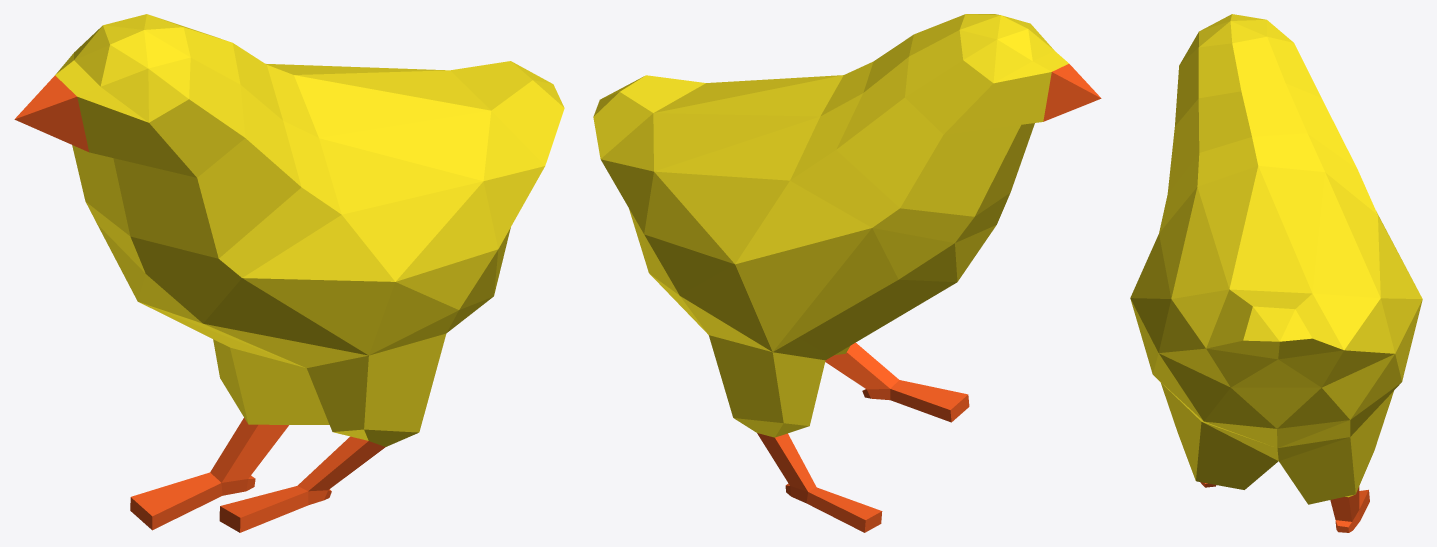
File: chickWalking8.obj
The picture shows the model from 3 angles, left to right: view 1: azimuth 30°, elevation 25°; view 2: azimuth 150°, elevation 25°; view 3: azimuth 270°, elevation 25°; orthographic projection. The views are drawn at different scales.
Visible parts, largest first — view 1: Icosphere.001_Icosphere.002; view 2: Icosphere.001_Icosphere.002; view 3: Icosphere.001_Icosphere.002.
Boxes of the visible parts, box(x1,y1,x2,y2) form: Icosphere.001_Icosphere.002: box(14, 14, 564, 532); Icosphere.001_Icosphere.002: box(593, 14, 1101, 532); Icosphere.001_Icosphere.002: box(1130, 14, 1422, 532).
Bounding box in the file's own units: 13.47 × 12.93 × 7.52.
